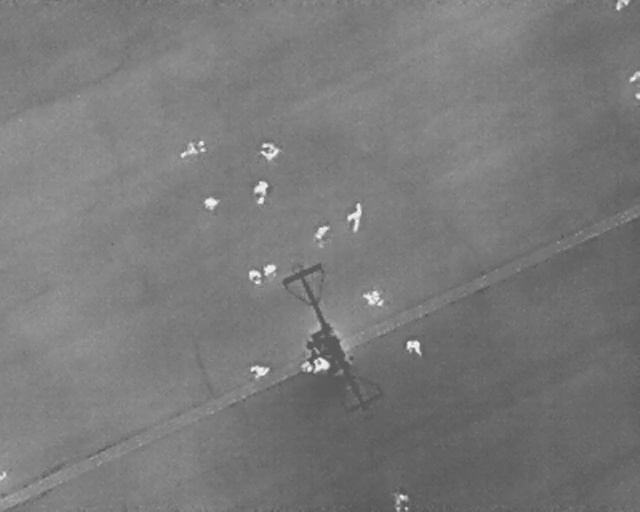Person: (176, 137, 209, 161), (359, 284, 388, 311), (252, 178, 270, 207), (346, 202, 362, 234), (312, 220, 332, 241), (259, 142, 281, 161), (393, 490, 412, 511), (259, 260, 279, 277), (249, 364, 270, 380), (404, 340, 423, 355), (313, 357, 329, 372), (202, 197, 220, 210), (247, 270, 261, 284), (629, 68, 640, 84), (616, 0, 629, 12)
